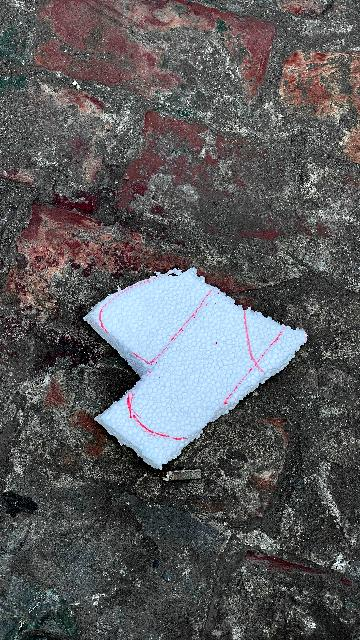cocksheet: (82, 254, 315, 475)
